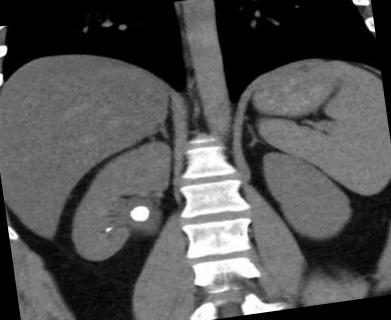Tas_Var: (125, 198, 155, 228), (99, 222, 119, 235)
